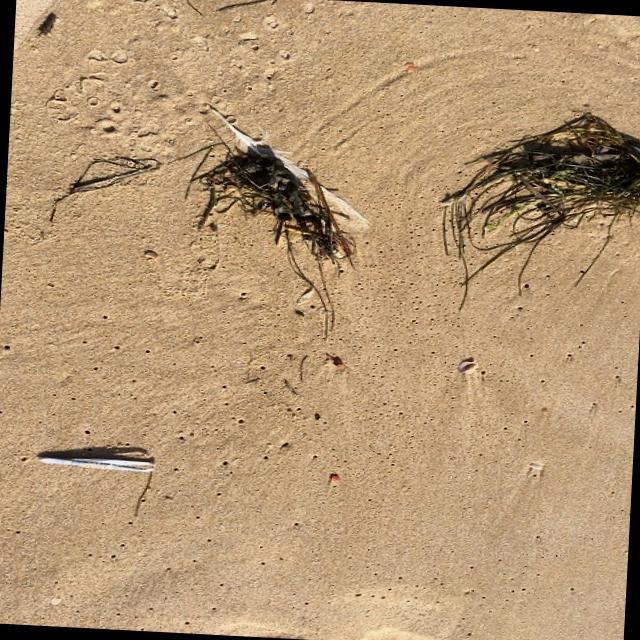Recycle: (29, 449, 172, 485)
